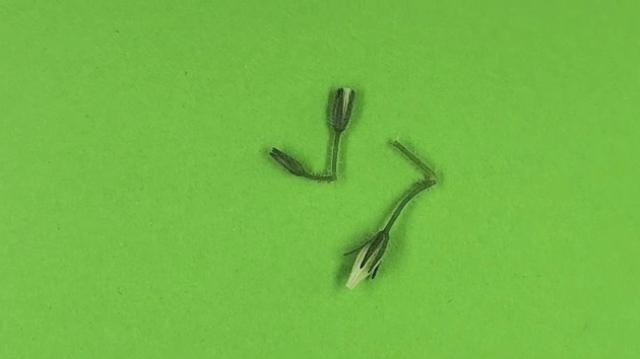Flower Bud: (344, 232, 388, 290), (268, 148, 310, 178), (328, 87, 355, 131), (270, 146, 294, 164)
